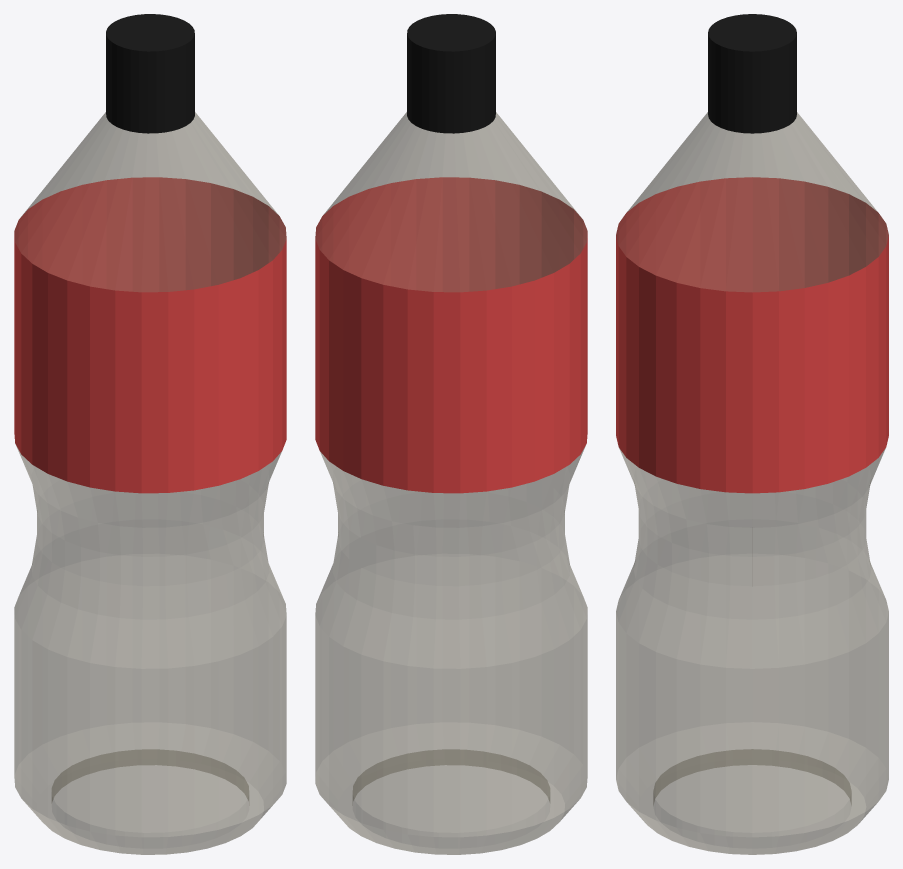
Rendered from Bottle.fbx.
3 views of the same model, side by side, from view 1: azimuth 30°, elevation 25°; view 2: azimuth 150°, elevation 25°; view 3: azimuth 270°, elevation 25° (orthographic).
Visible parts, largest first — view 1: PlasticBottle; view 2: PlasticBottle; view 3: PlasticBottle.
Boxes of the visible parts, left/top/right/bottom form: PlasticBottle: left=14, top=14, right=286, bottom=854; PlasticBottle: left=315, top=14, right=587, bottom=854; PlasticBottle: left=616, top=14, right=888, bottom=854.
Bounding box in the file's own units: 9.9 × 30.96 × 9.9.
